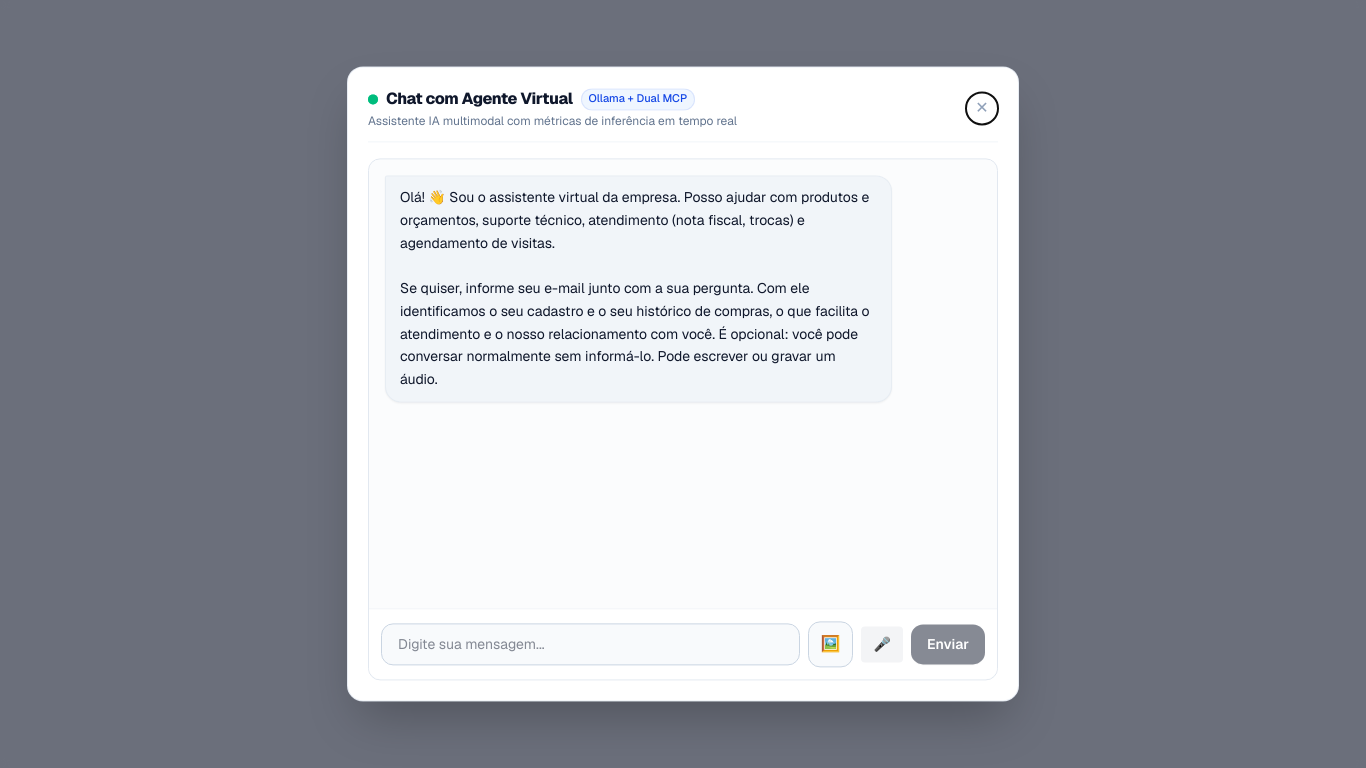
it: ChatModal › envia mensagem de texto e exibe a resposta do assistente
The width and height of the screenshot is (1366, 768).
Type "Vocês têm o produto X?" into the field labelled "mensagem".
click(590, 645); type("Vocês têm o produto X?")  # box [381, 624, 800, 666]
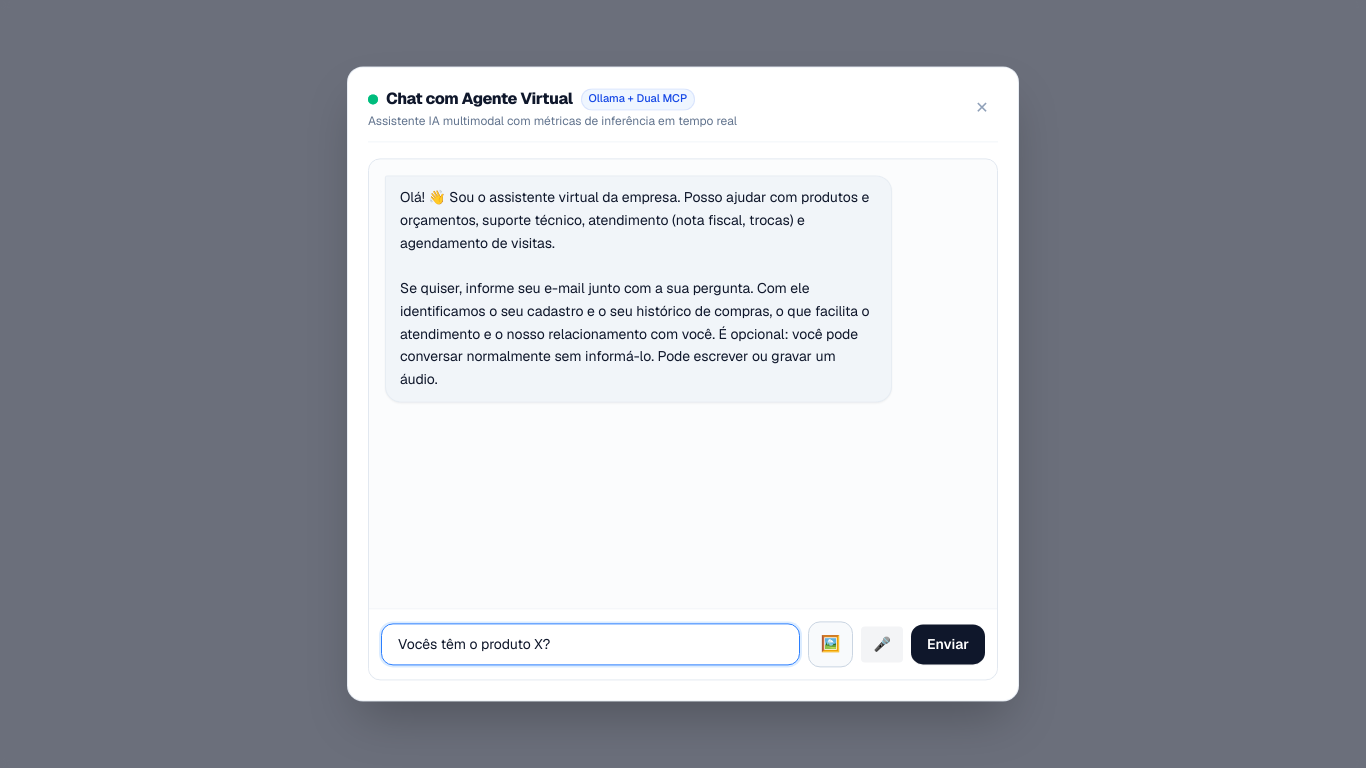
Click the button "Enviar".
click(948, 645)  # box [911, 625, 985, 665]
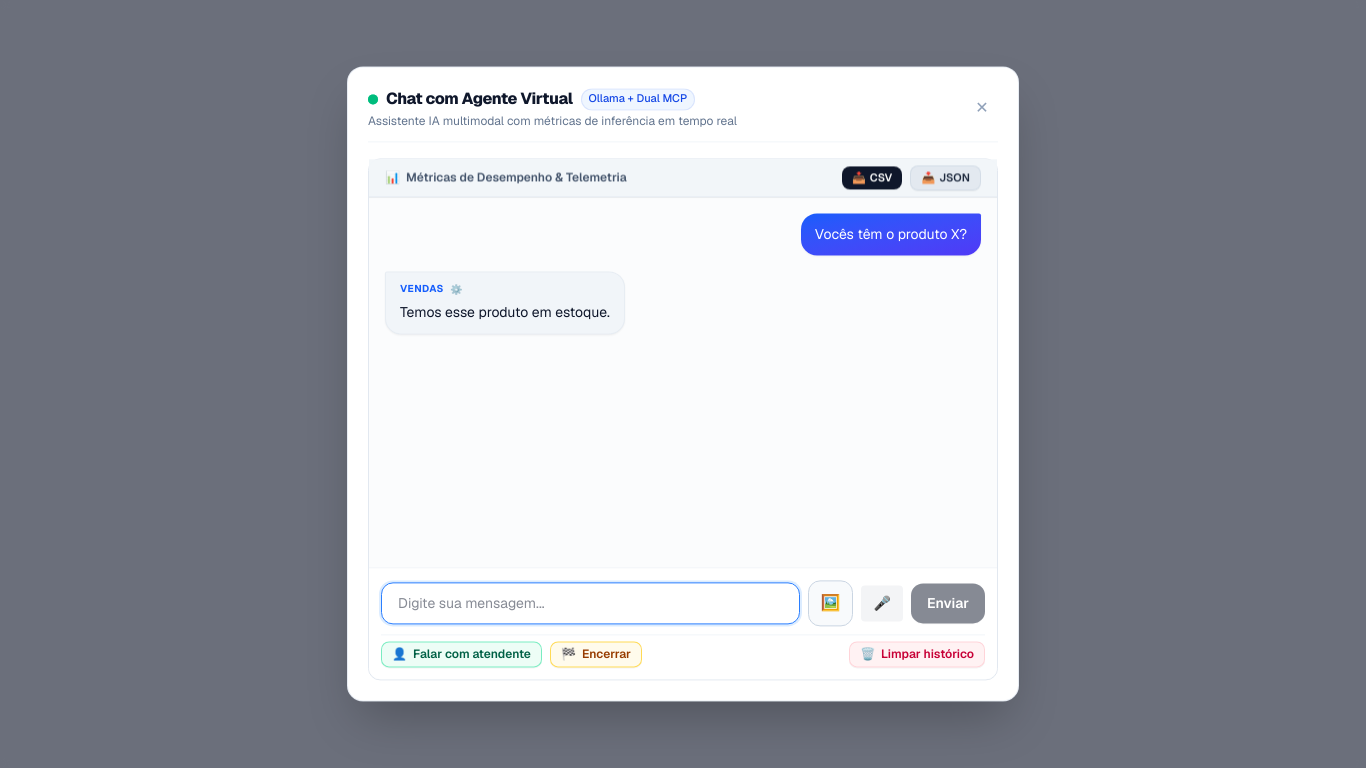
Expected: the text "Vocês têm o produto X?" is shown, [815, 223, 967, 246]
Expected: the text "Temos esse produto em estoque." is shown, [400, 301, 610, 324]
Expected: the text with test id "message-domain-label" reads "Vendas", [400, 283, 444, 296]
